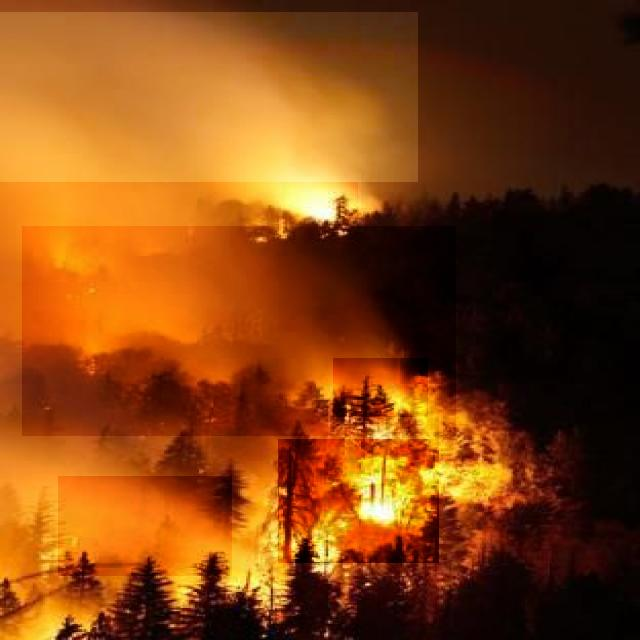Fire: (278, 439, 439, 564), (333, 358, 428, 417), (282, 182, 358, 226)
Smoke: (22, 226, 456, 436), (0, 12, 418, 182), (58, 476, 232, 576)
